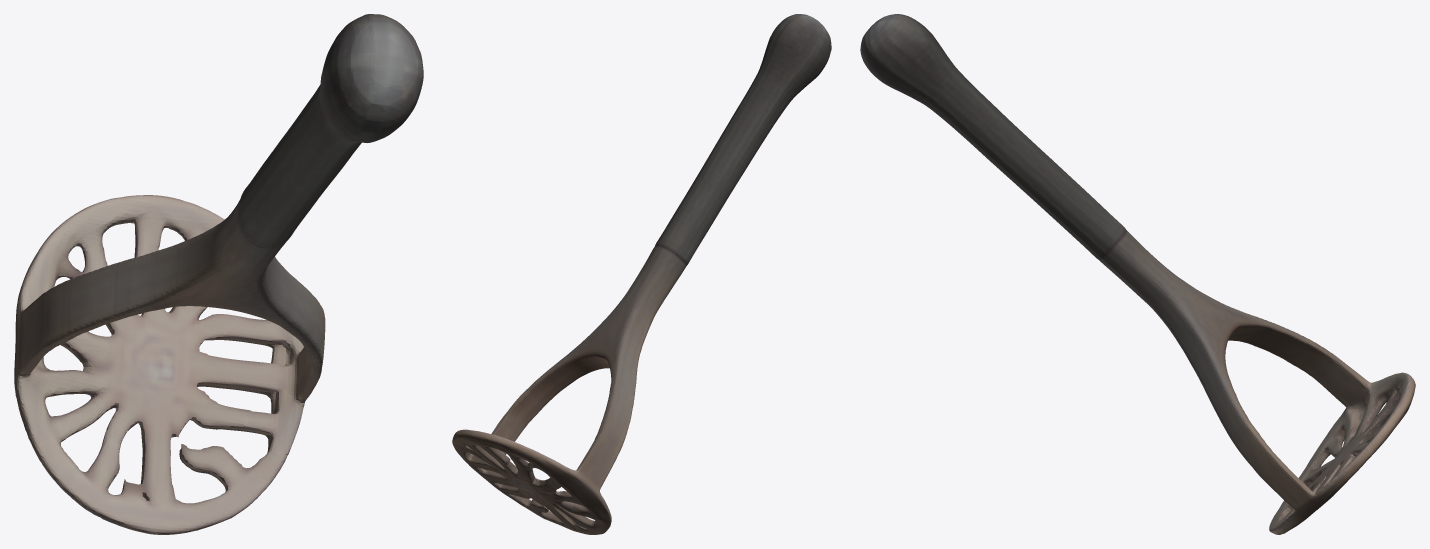
Rendered from frame_0029_source_000029_object.glb.
3 views of the same model, side by side, from view 1: azimuth 30°, elevation 25°; view 2: azimuth 150°, elevation 25°; view 3: azimuth 270°, elevation 25° (orthographic). The views are drawn at different scales.
Visible parts, largest first — view 1: world; view 2: world; view 3: world.
Part boxes in pixels (box(x1,y1,x2,y2)): world: box(14, 14, 423, 534); world: box(452, 14, 831, 534); world: box(860, 14, 1415, 534).
Size of the model in its own units: 0.0893 by 0.2026 by 0.2156.
